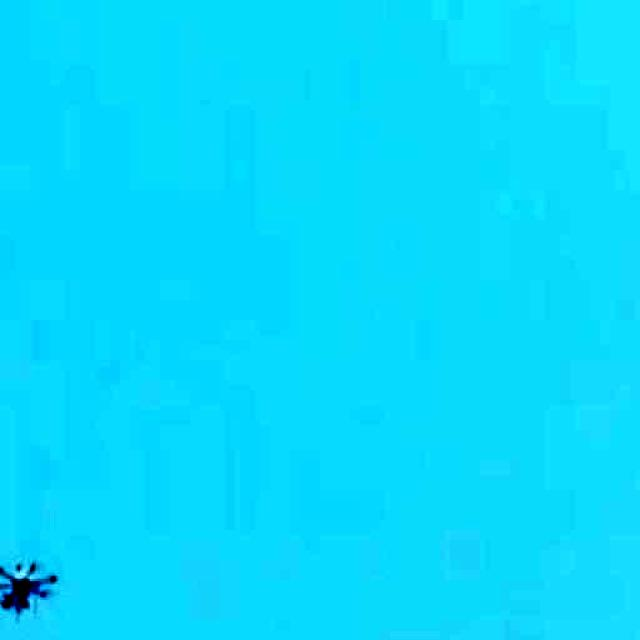bird: (0, 531, 84, 630)
